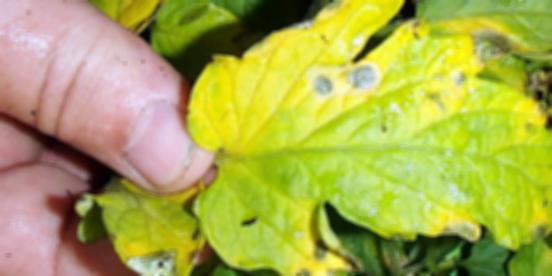Tomato Early blight leaf: (191, 0, 552, 276)
